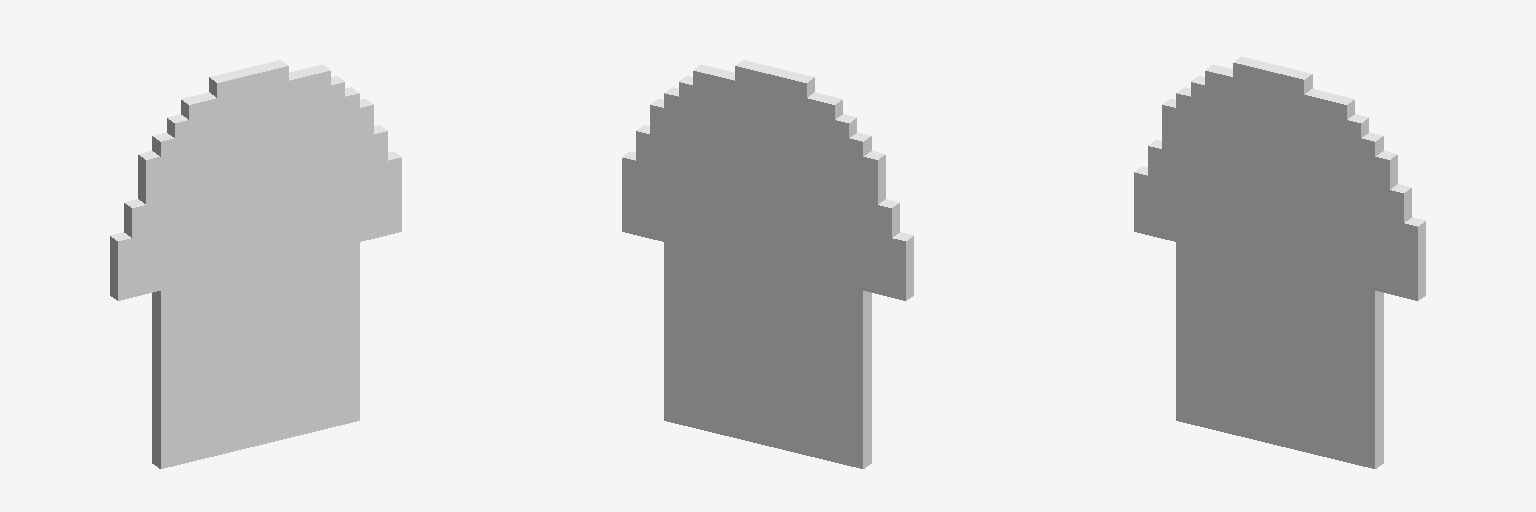
File: SunShroom.obj
The picture shows the model from 3 angles: view 1: azimuth 30°, elevation 25°; view 2: azimuth 150°, elevation 25°; view 3: azimuth 330°, elevation 25°; orthographic projection.
Parts seen in each view (by area): view 1: object 1; view 2: object 1; view 3: object 1.
Part boxes in pixels (bbox=[...]): object 1: bbox=[110, 60, 401, 468]; object 1: bbox=[622, 60, 913, 468]; object 1: bbox=[1134, 56, 1425, 468].
Bounding box in the file's own units: 2 × 2.5 × 0.1.